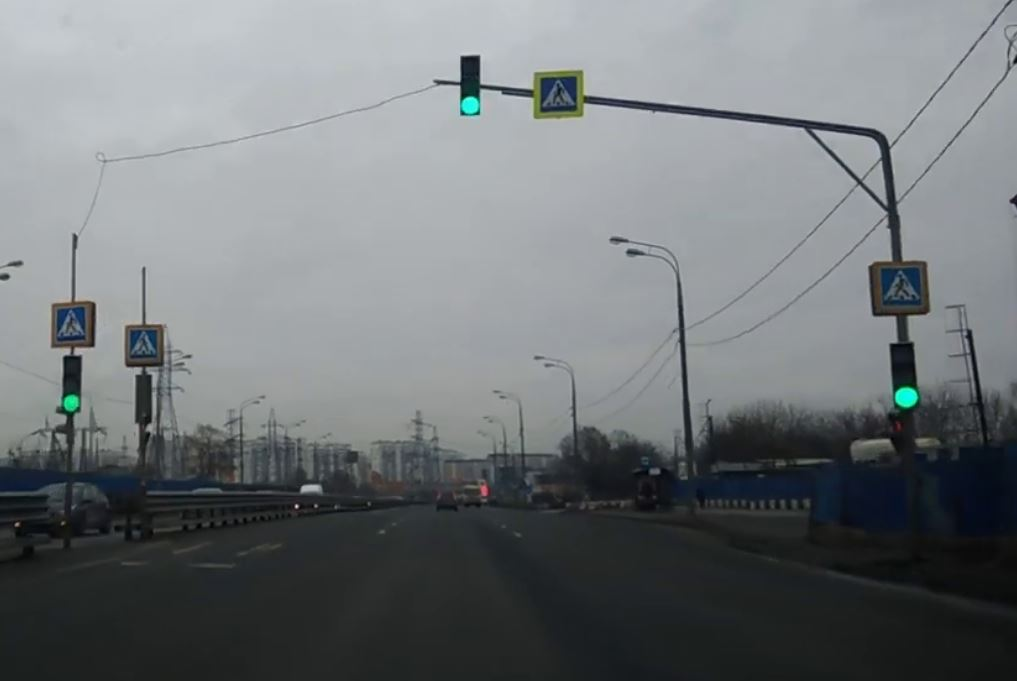Yaya Gecidi: (880, 266, 923, 308), (536, 74, 578, 115), (55, 307, 87, 341), (132, 329, 160, 357)
